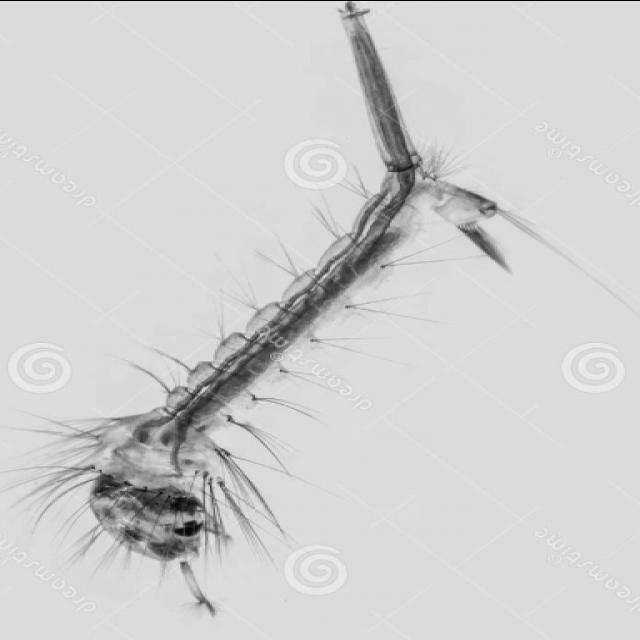larvas: (90, 10, 498, 560)
